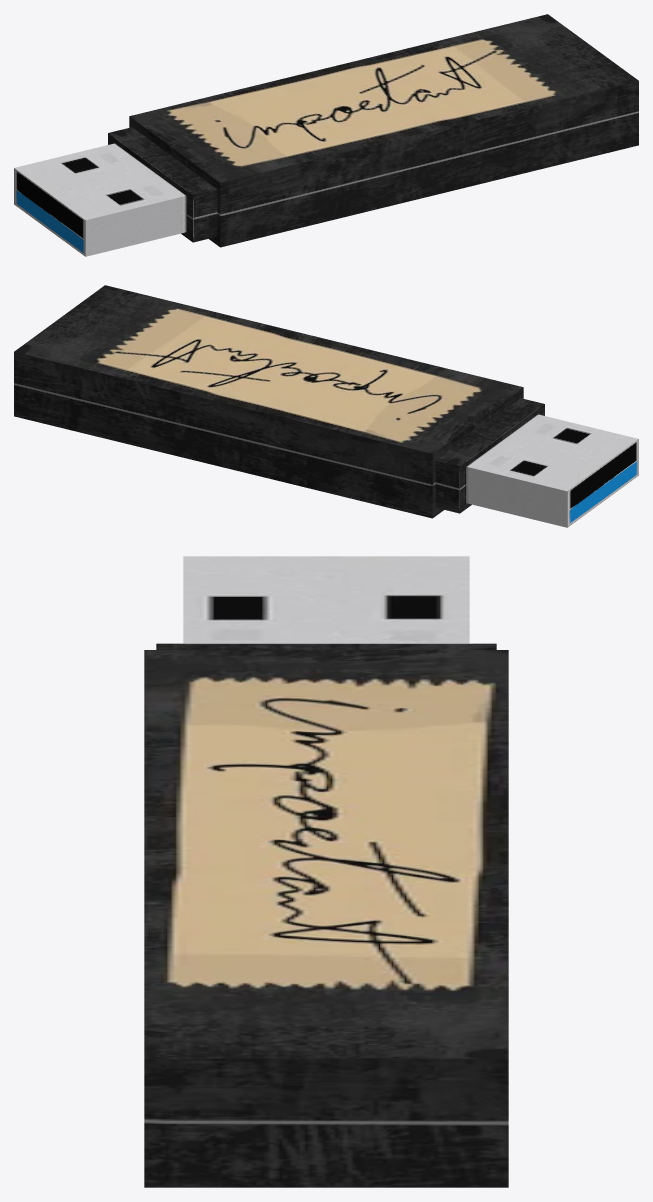
File: usb.glb
3 views of the same model, one above another, from view 1: azimuth 30°, elevation 25°; view 2: azimuth 150°, elevation 25°; view 3: azimuth 270°, elevation 25° (orthographic). The views are drawn at different scales.
Visible parts, largest first — view 1: usb stick; view 2: usb stick; view 3: usb stick.
Boxes of the visible parts, x1,y1,x2,y2 form: usb stick: [14, 14, 638, 256]; usb stick: [14, 285, 638, 527]; usb stick: [144, 556, 508, 1187].
Size of the model in its own units: 6.89 by 0.7823 by 2.
1 material, 1 textured.
